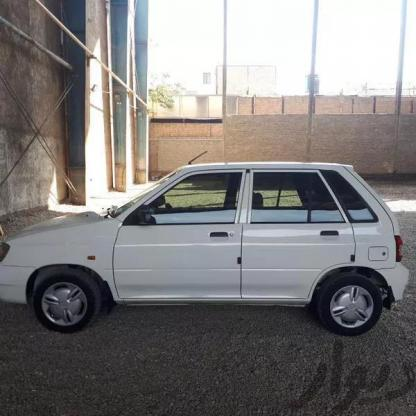Car: (0, 155, 403, 344)
